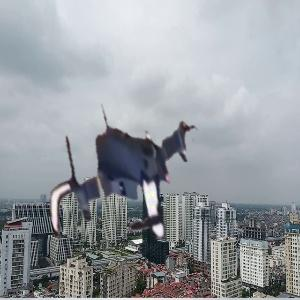drone: (39, 96, 214, 271)
